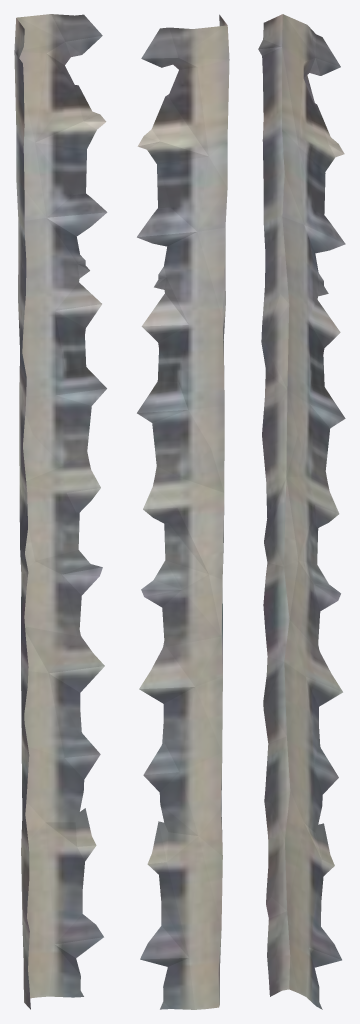
Rendered from Tile__004__002_L20_000470.glb.
3 views of the same model, side by side, from view 1: azimuth 30°, elevation 25°; view 2: azimuth 210°, elevation 25°; view 3: azimuth 330°, elevation 25° (orthographic).
Parts seen in each view (by area): view 1: root; view 2: root; view 3: root.
Boxes of the visible parts, <box> form: root: <box>14,14,107,1009</box>; root: <box>137,14,229,1009</box>; root: <box>258,14,345,1009</box>.
Bounding box in the file's own units: 2.27 × 24.02 × 0.6554.
Materials: 1 (1 with a texture image).
